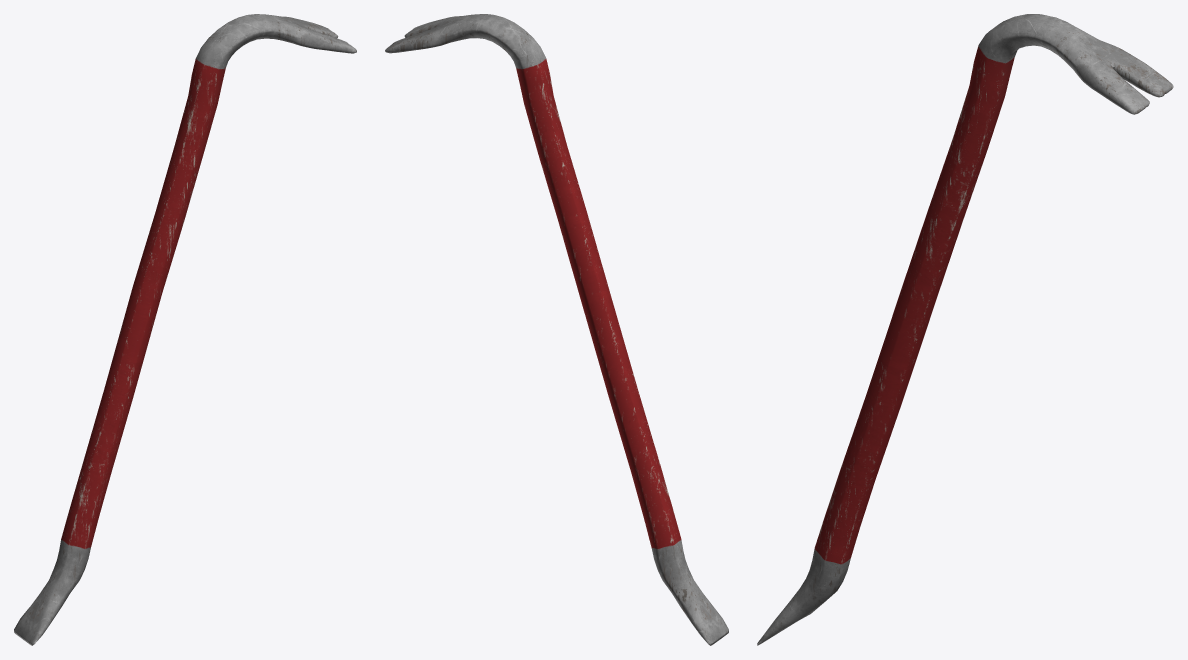
File: crowbar.glb
3 views of the same model, side by side, from view 1: azimuth 30°, elevation 25°; view 2: azimuth 150°, elevation 25°; view 3: azimuth 330°, elevation 25° (orthographic). The views are drawn at different scales.
Parts seen in each view (by area): view 1: Crowbar_crowbar_0; view 2: Crowbar_crowbar_0; view 3: Crowbar_crowbar_0.
Boxes of the visible parts, x1,y1,x2,y2 form: Crowbar_crowbar_0: (14,14,356,645); Crowbar_crowbar_0: (385,14,728,645); Crowbar_crowbar_0: (757,14,1173,645).
Bounding box in the file's own units: 0.3801 × 0.642 × 0.0662.
Materials: 1 (1 with a texture image).
